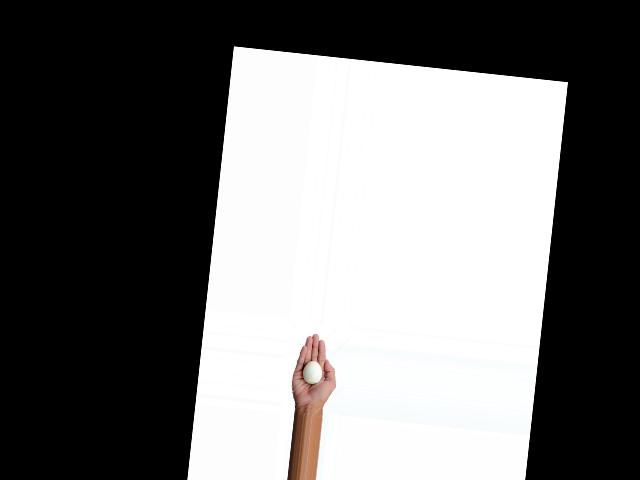egg: (302, 359, 322, 384)
